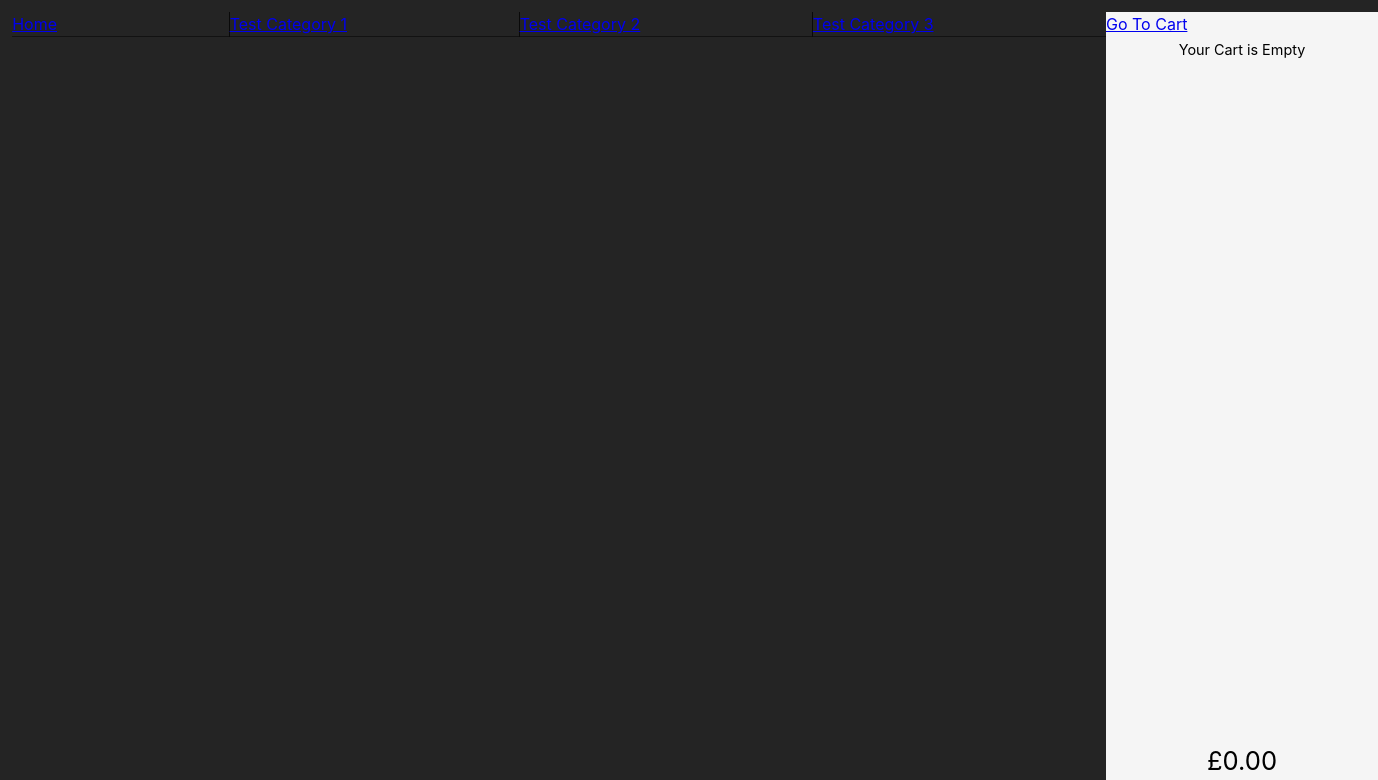
Test: UI/DOM testing... › On the '/cart' route... › The unordered-list (<ul>) element containing the CartItemCard          components... › Should contain the items in the cart (if there are any)
Step 1. Click the link "test category 1" → (288, 24), box x1=229 y1=11 x2=520 y2=37
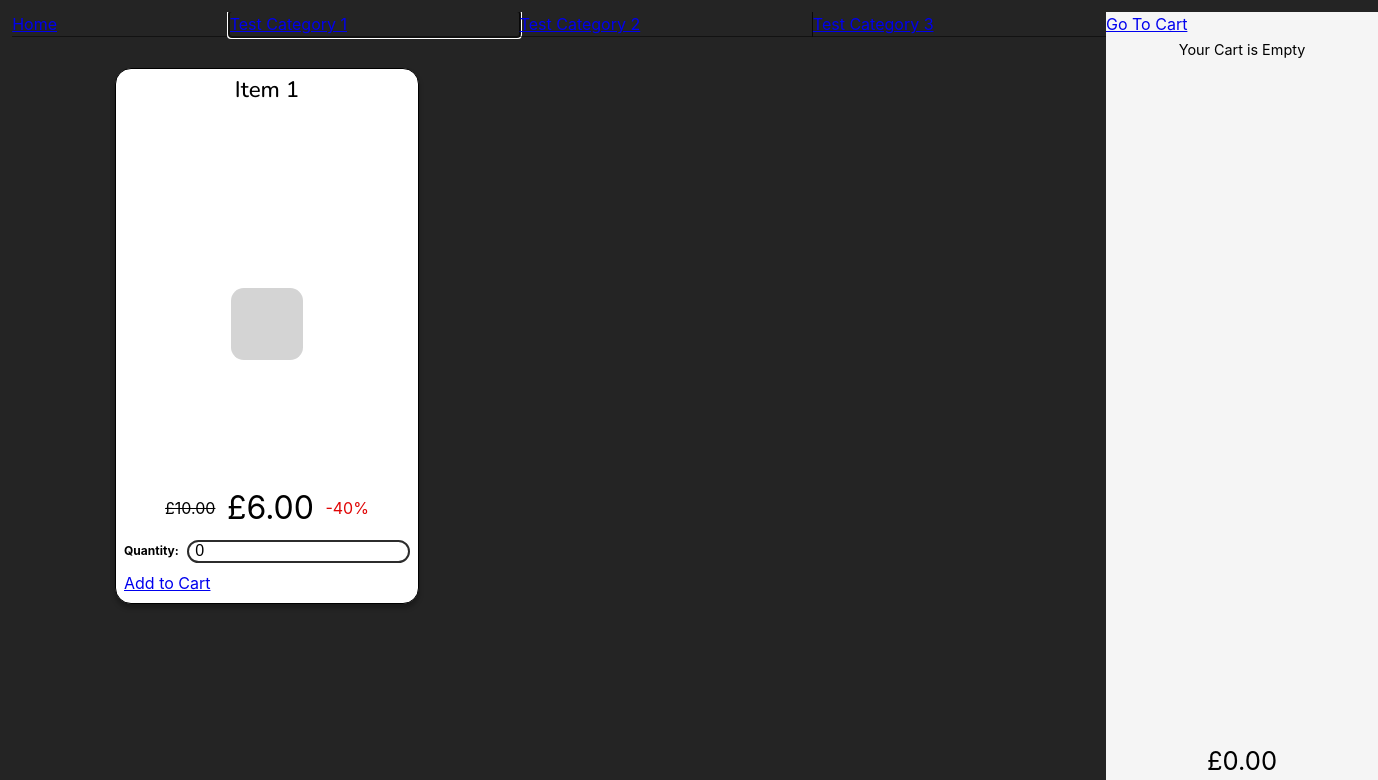
Step 2. Type "5" into the number field labelled "Quantity:" → (298, 551), box x1=187 y1=540 x2=410 y2=563
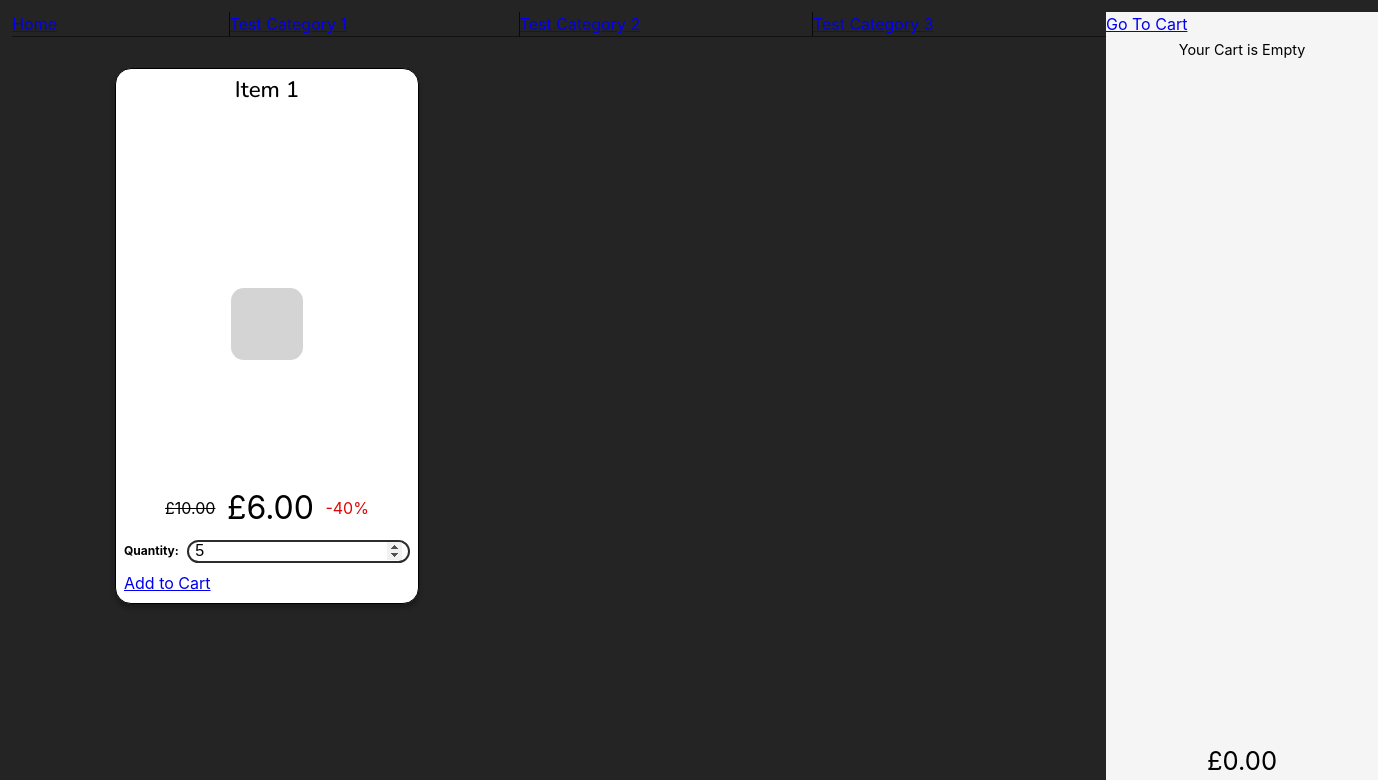
Step 3. Click the link "Add to Cart" → (167, 583), box x1=124 y1=573 x2=210 y2=593
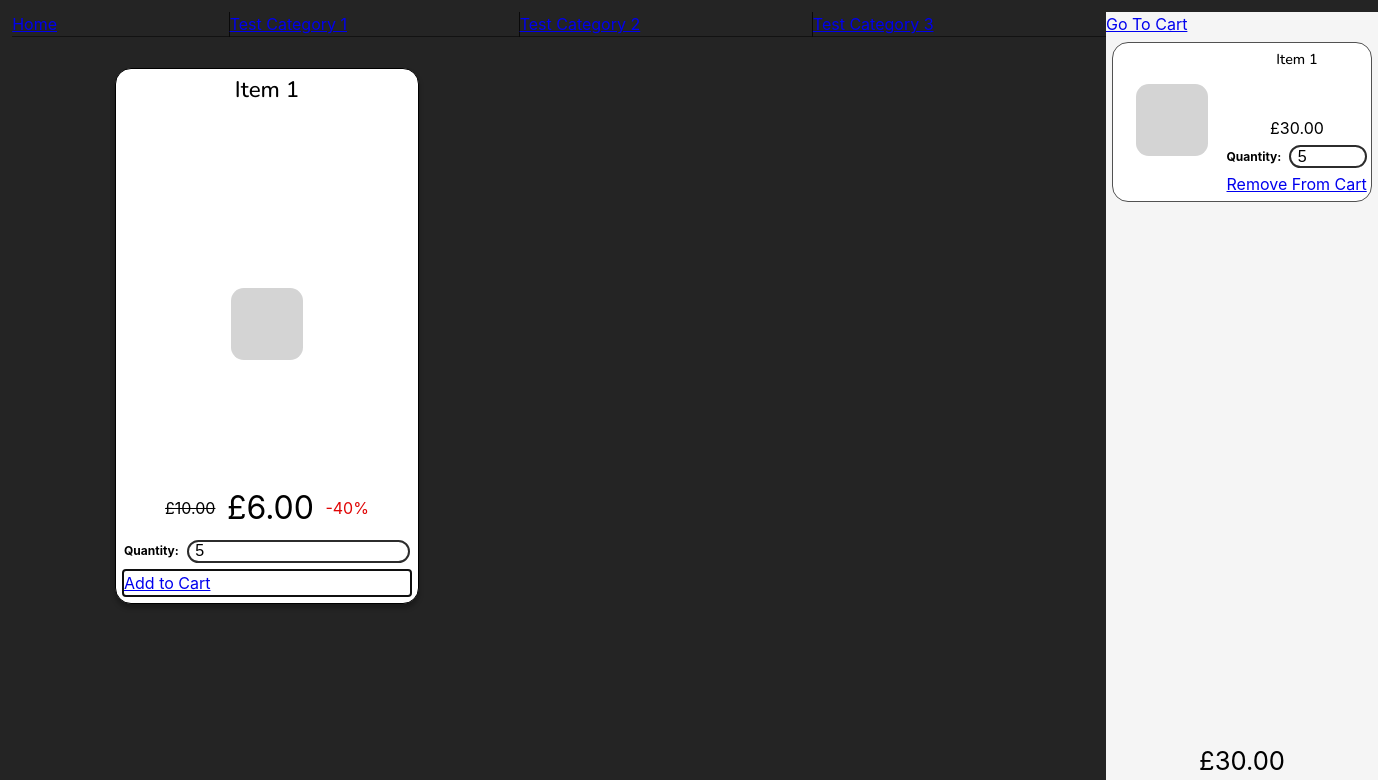
Step 4. Click the link "Go To Cart" → (1147, 24), box x1=1106 y1=14 x2=1187 y2=34
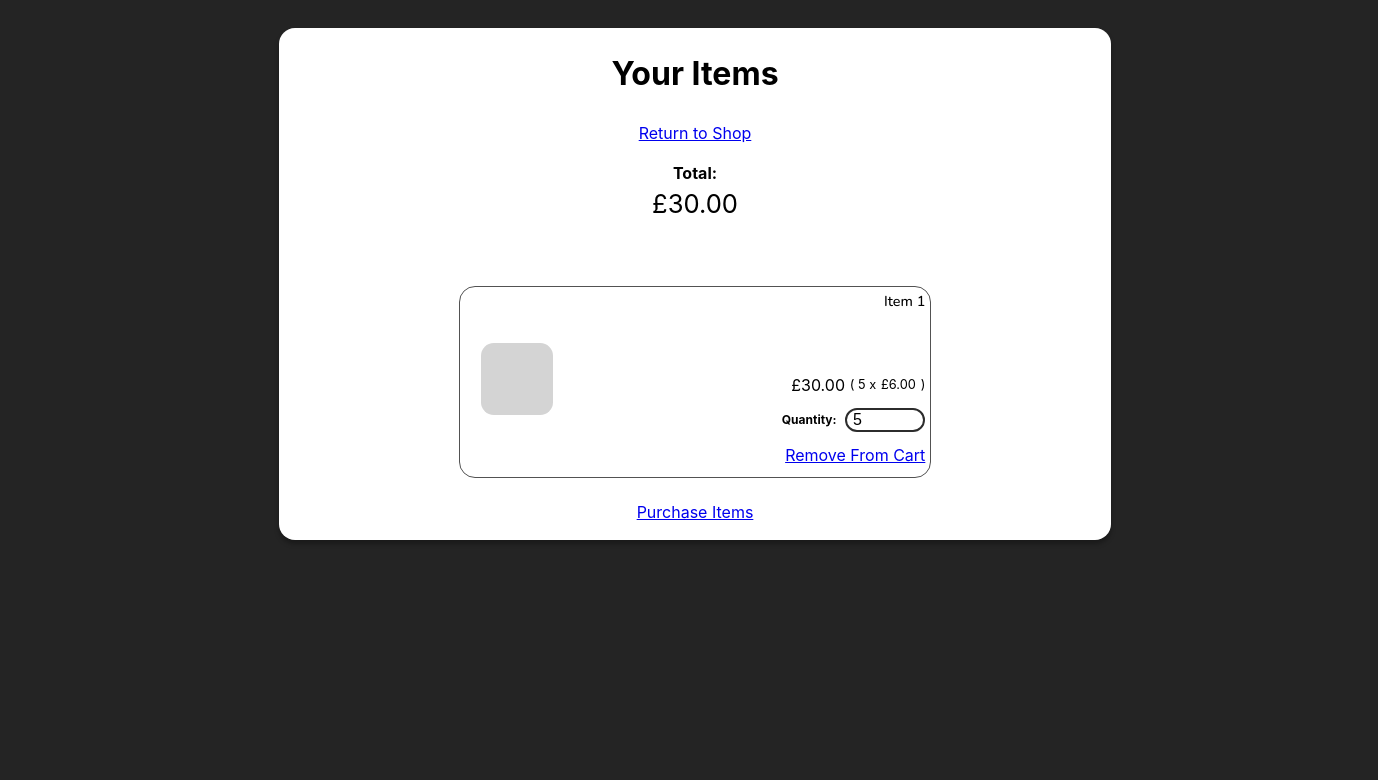
Now the list named "cart-item-list" is shown, box x1=459 y1=286 x2=931 y2=478
